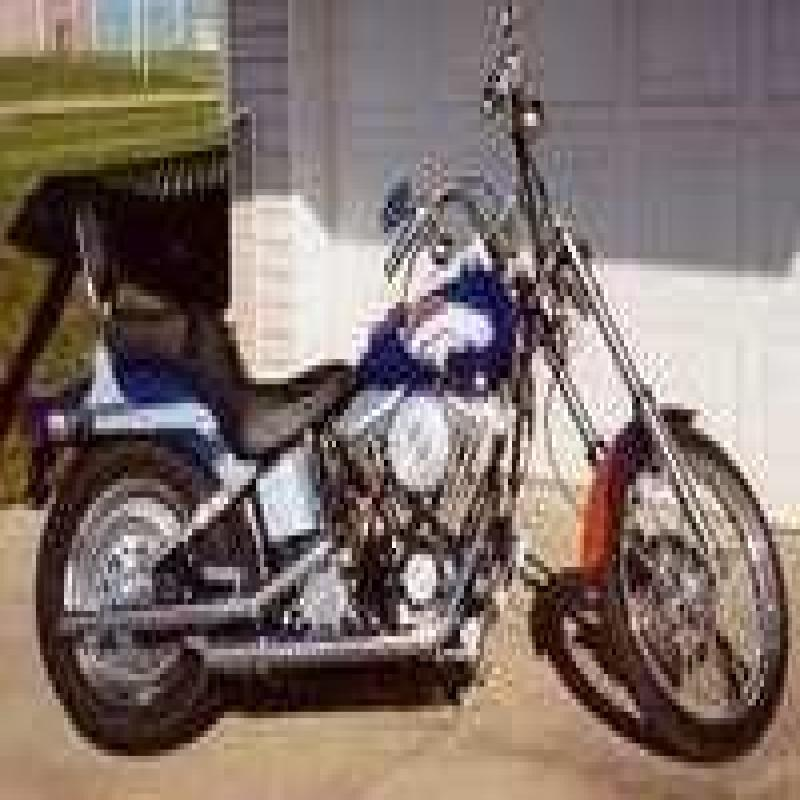bike: (41, 19, 786, 740)
